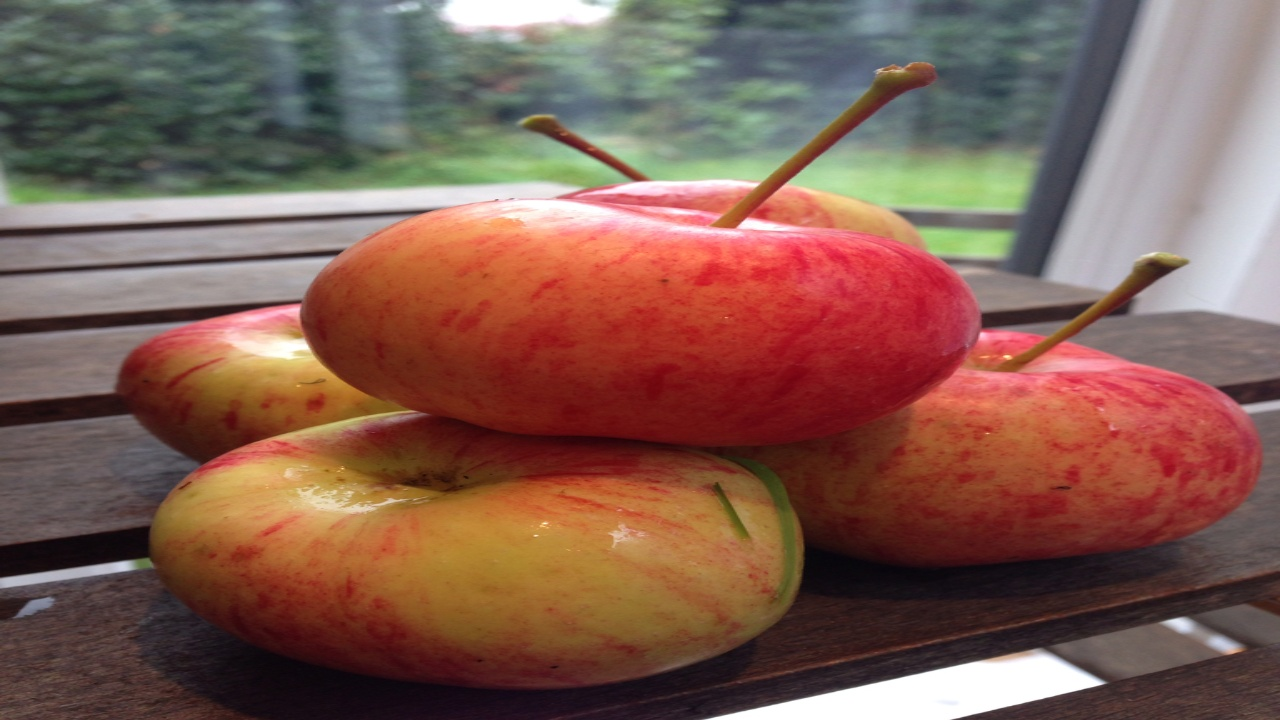apple: (146, 393, 802, 694), (296, 155, 965, 448)
